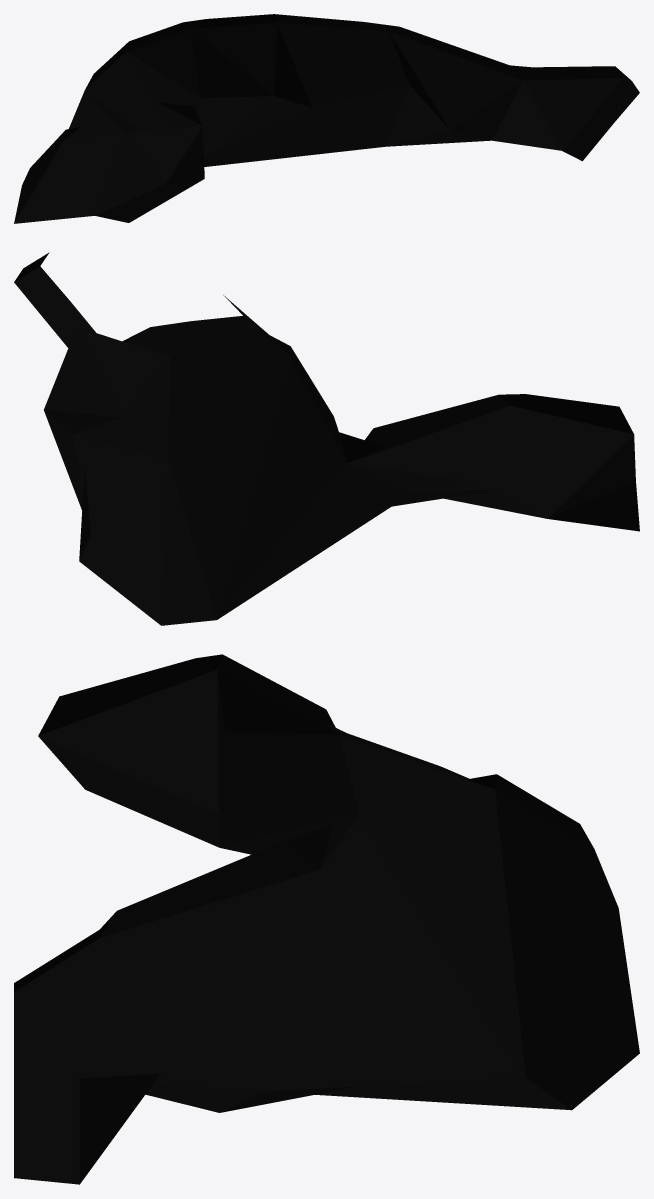
3 renders of one model, top to bottom at view 1: azimuth 30°, elevation 25°; view 2: azimuth 150°, elevation 25°; view 3: azimuth 270°, elevation 25°, orthographic. The views are drawn at different scales.
Bounding box in the file's own units: 0.6856 × 0.1501 × 0.3858.
1 material, 1 textured.
